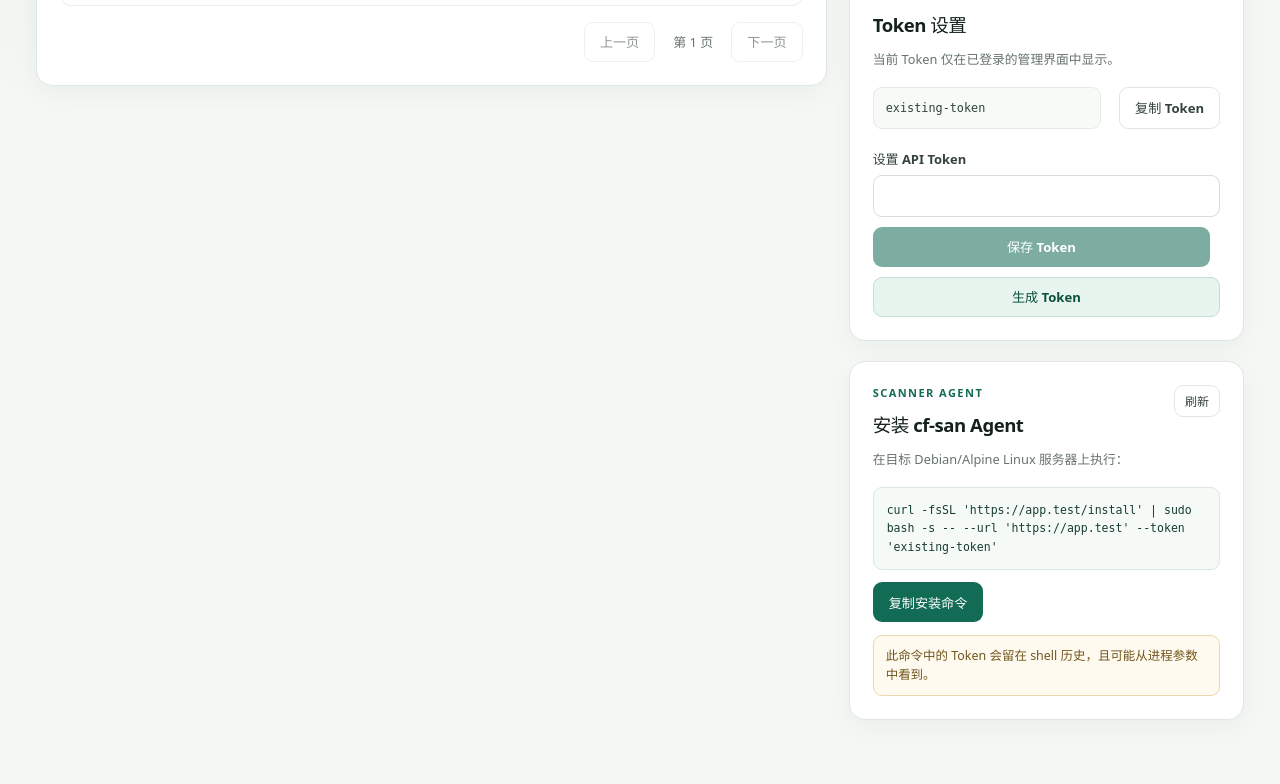
Test: agent installer panel › copies the install command when the clipboard is available
(page scrolled)
Click the button "复制安装命令" at (928, 602), box x1=873 y1=582 x2=983 y2=622
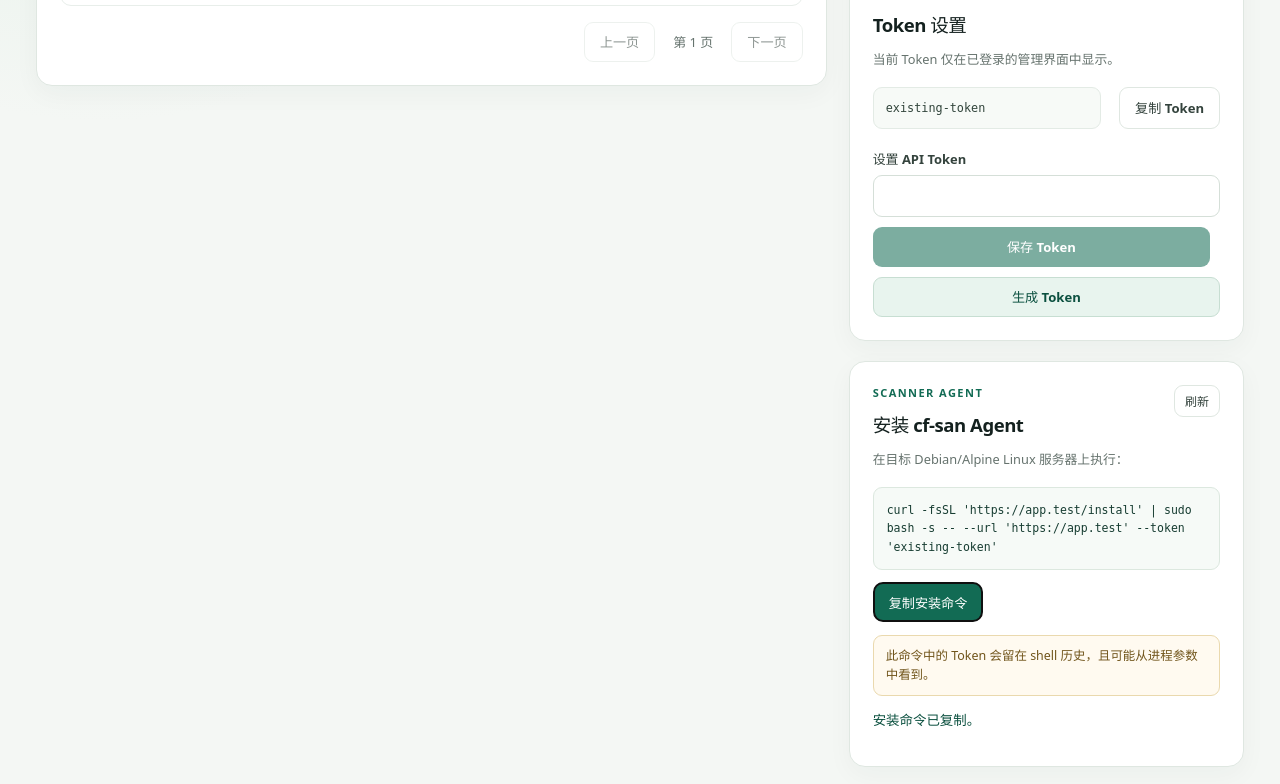
Now the text "安装命令已复制。" is shown, box x1=873 y1=711 x2=980 y2=729
